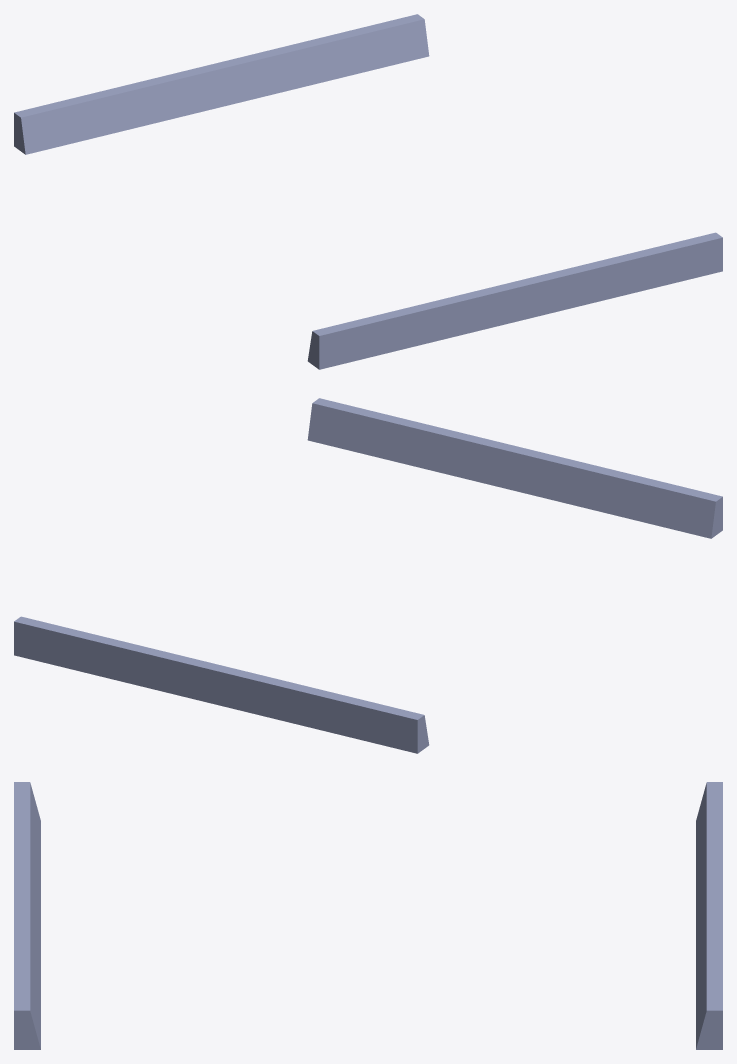
The model's file is road-side-barrier.fbx.
3 renders of one model, top to bottom at view 1: azimuth 30°, elevation 25°; view 2: azimuth 150°, elevation 25°; view 3: azimuth 270°, elevation 25°, orthographic. The views are drawn at different scales.
Visible parts, largest first — view 1: road-side-barrier; view 2: road-side-barrier; view 3: road-side-barrier.
Part boxes in pixels (x1,y1,x2,y2): road-side-barrier: (14, 14, 722, 369); road-side-barrier: (14, 398, 722, 753); road-side-barrier: (14, 782, 722, 1049).
Size of the model in its own units: 100 by 8 by 131.
